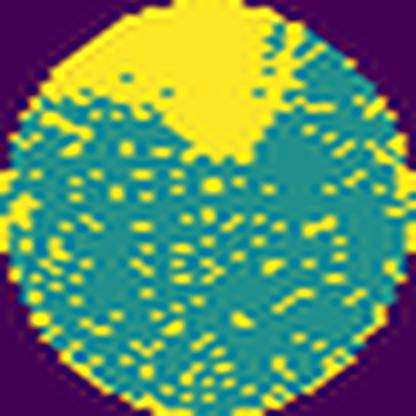Edge-Loc: (40, 0, 310, 170)
